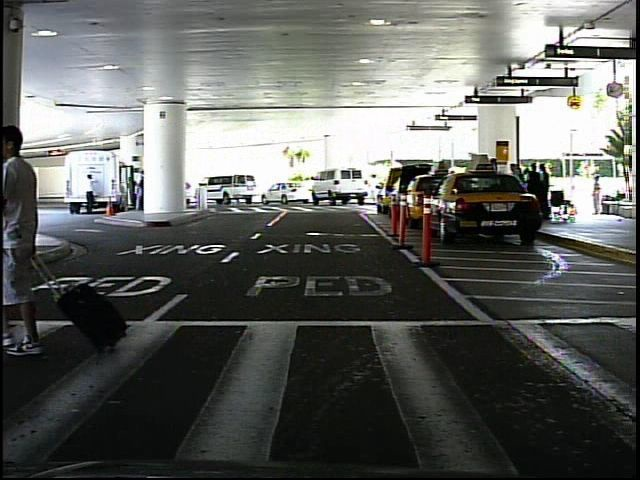person: (0, 111, 66, 359), (588, 172, 607, 218), (82, 172, 101, 216), (368, 169, 382, 204)
